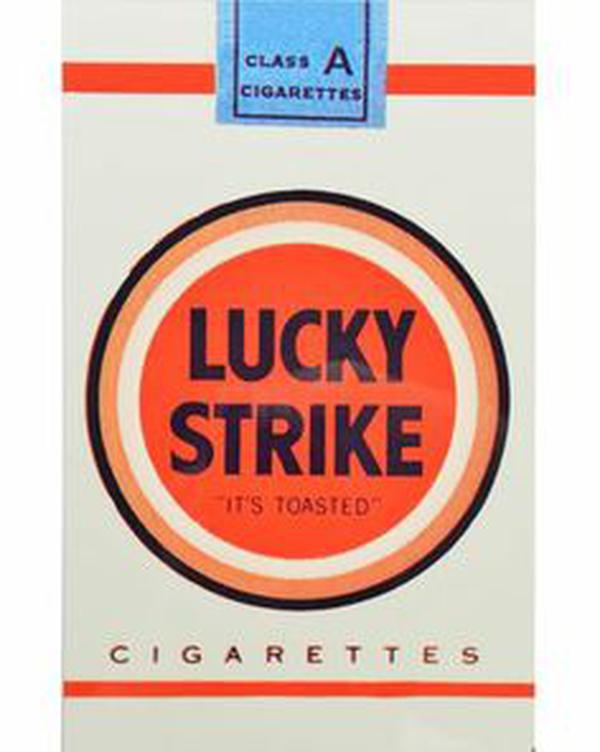lucky_strike_red: (66, 1, 539, 752)
